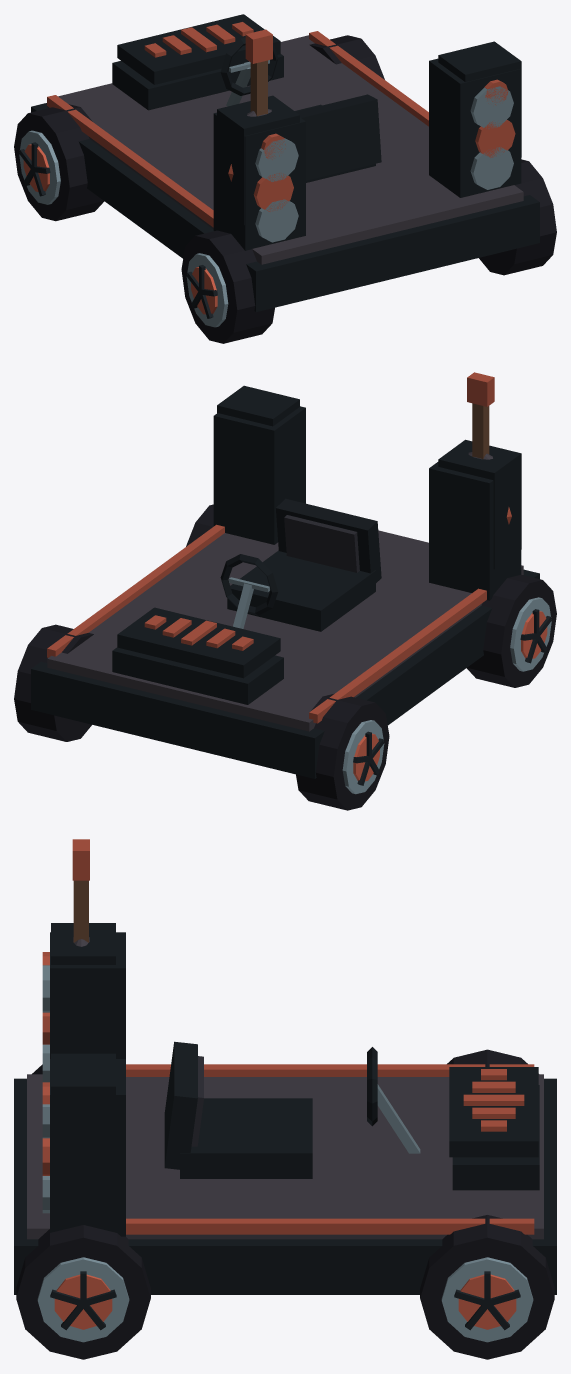
Rendered from kart.glb.
3 renders of one model, top to bottom at view 1: azimuth 30°, elevation 25°; view 2: azimuth 150°, elevation 25°; view 3: azimuth 270°, elevation 25°, orthographic. The views are drawn at different scales.
Parts seen in each view (by area): view 1: identity-stage-stage-platform-and-pa-towers, identity-stage-motif-speakers, wheel-rear-left, wheel-front-left, identity-stage-driver-cockpit, identity-stage-motif-equalizer, wheel-rear-right, identity-stage-motif-guitar, wheel-front-right; view 2: identity-stage-stage-platform-and-pa-towers, identity-stage-driver-cockpit, wheel-front-left, wheel-rear-left, identity-stage-motif-equalizer, identity-stage-motif-speakers, wheel-front-right, identity-stage-motif-guitar; view 3: identity-stage-stage-platform-and-pa-towers, identity-stage-driver-cockpit, wheel-front-right, wheel-rear-right, identity-stage-motif-speakers, identity-stage-motif-equalizer, identity-stage-motif-guitar, wheel-front-left.
Part boxes in pixels (x1=…): identity-stage-stage-platform-and-pa-towers: x1=31, y1=31, x2=539, y2=312; identity-stage-motif-speakers: x1=217, y1=41, x2=521, y2=224; wheel-rear-left: x1=181, y1=230, x2=274, y2=343; wheel-front-left: x1=14, y1=104, x2=104, y2=221; identity-stage-driver-cockpit: x1=220, y1=37, x2=381, y2=182; identity-stage-motif-equalizer: x1=117, y1=14, x2=280, y2=84; wheel-rear-right: x1=479, y1=159, x2=556, y2=275; identity-stage-motif-guitar: x1=228, y1=29, x2=272, y2=181; wheel-front-right: x1=309, y1=35, x2=384, y2=79; identity-stage-stage-platform-and-pa-towers: x1=31, y1=406, x2=539, y2=778; identity-stage-driver-cockpit: x1=220, y1=498, x2=381, y2=631; wheel-front-left: x1=296, y1=693, x2=389, y2=810; wheel-rear-left: x1=466, y1=574, x2=556, y2=687; identity-stage-motif-equalizer: x1=117, y1=607, x2=280, y2=678; identity-stage-motif-speakers: x1=217, y1=385, x2=521, y2=569; wheel-front-right: x1=14, y1=624, x2=93, y2=741; identity-stage-motif-guitar: x1=467, y1=372, x2=511, y2=524; identity-stage-stage-platform-and-pa-towers: x1=14, y1=932, x2=556, y2=1294; identity-stage-driver-cockpit: x1=164, y1=1041, x2=420, y2=1178; wheel-front-right: x1=420, y1=1215, x2=554, y2=1359; wheel-rear-right: x1=16, y1=1225, x2=150, y2=1359; identity-stage-motif-speakers: x1=42, y1=923, x2=115, y2=1202; identity-stage-motif-equalizer: x1=449, y1=1067, x2=538, y2=1157; identity-stage-motif-guitar: x1=72, y1=839, x2=89, y2=946; wheel-front-left: x1=447, y1=1049, x2=527, y2=1066.
Bounding box in the file's own units: 2.16 × 1.8 × 2.5.
